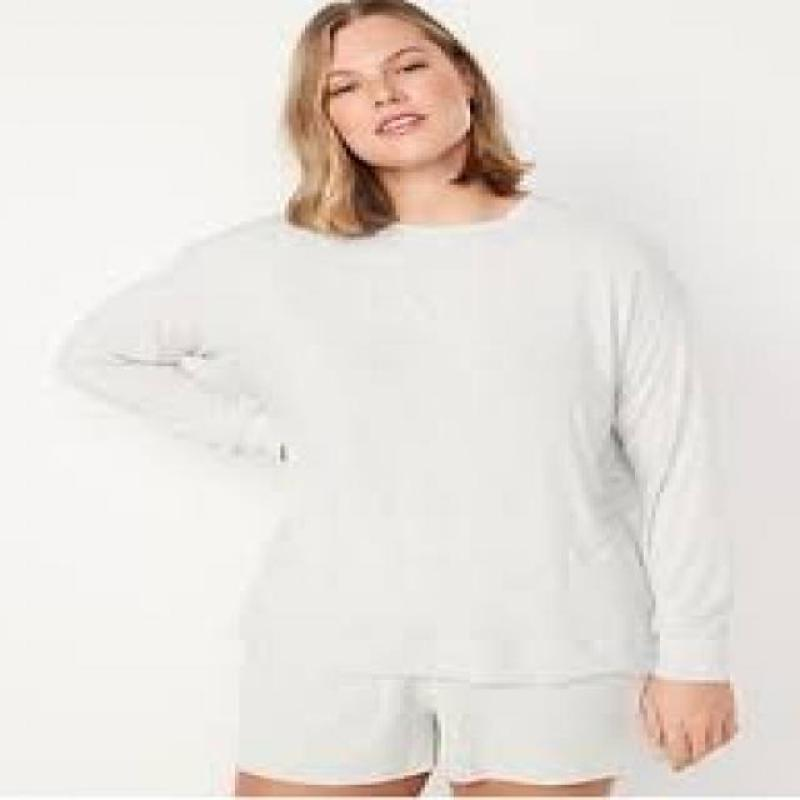Shorts: (232, 669, 641, 787)
long sleeve shirt: (50, 189, 736, 687)
